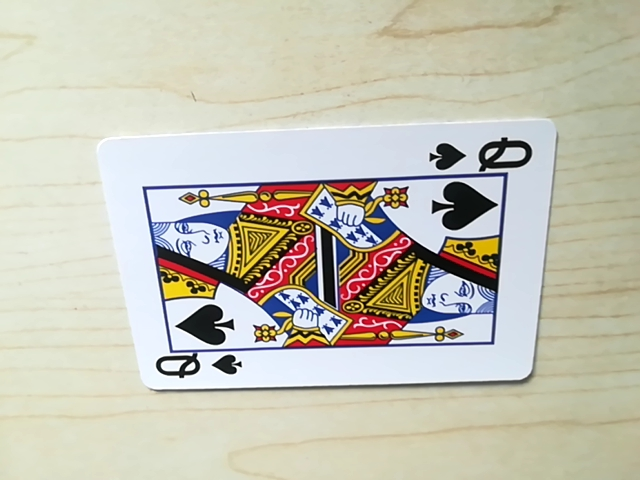ht q: (427, 132, 534, 175), (149, 348, 243, 388)
